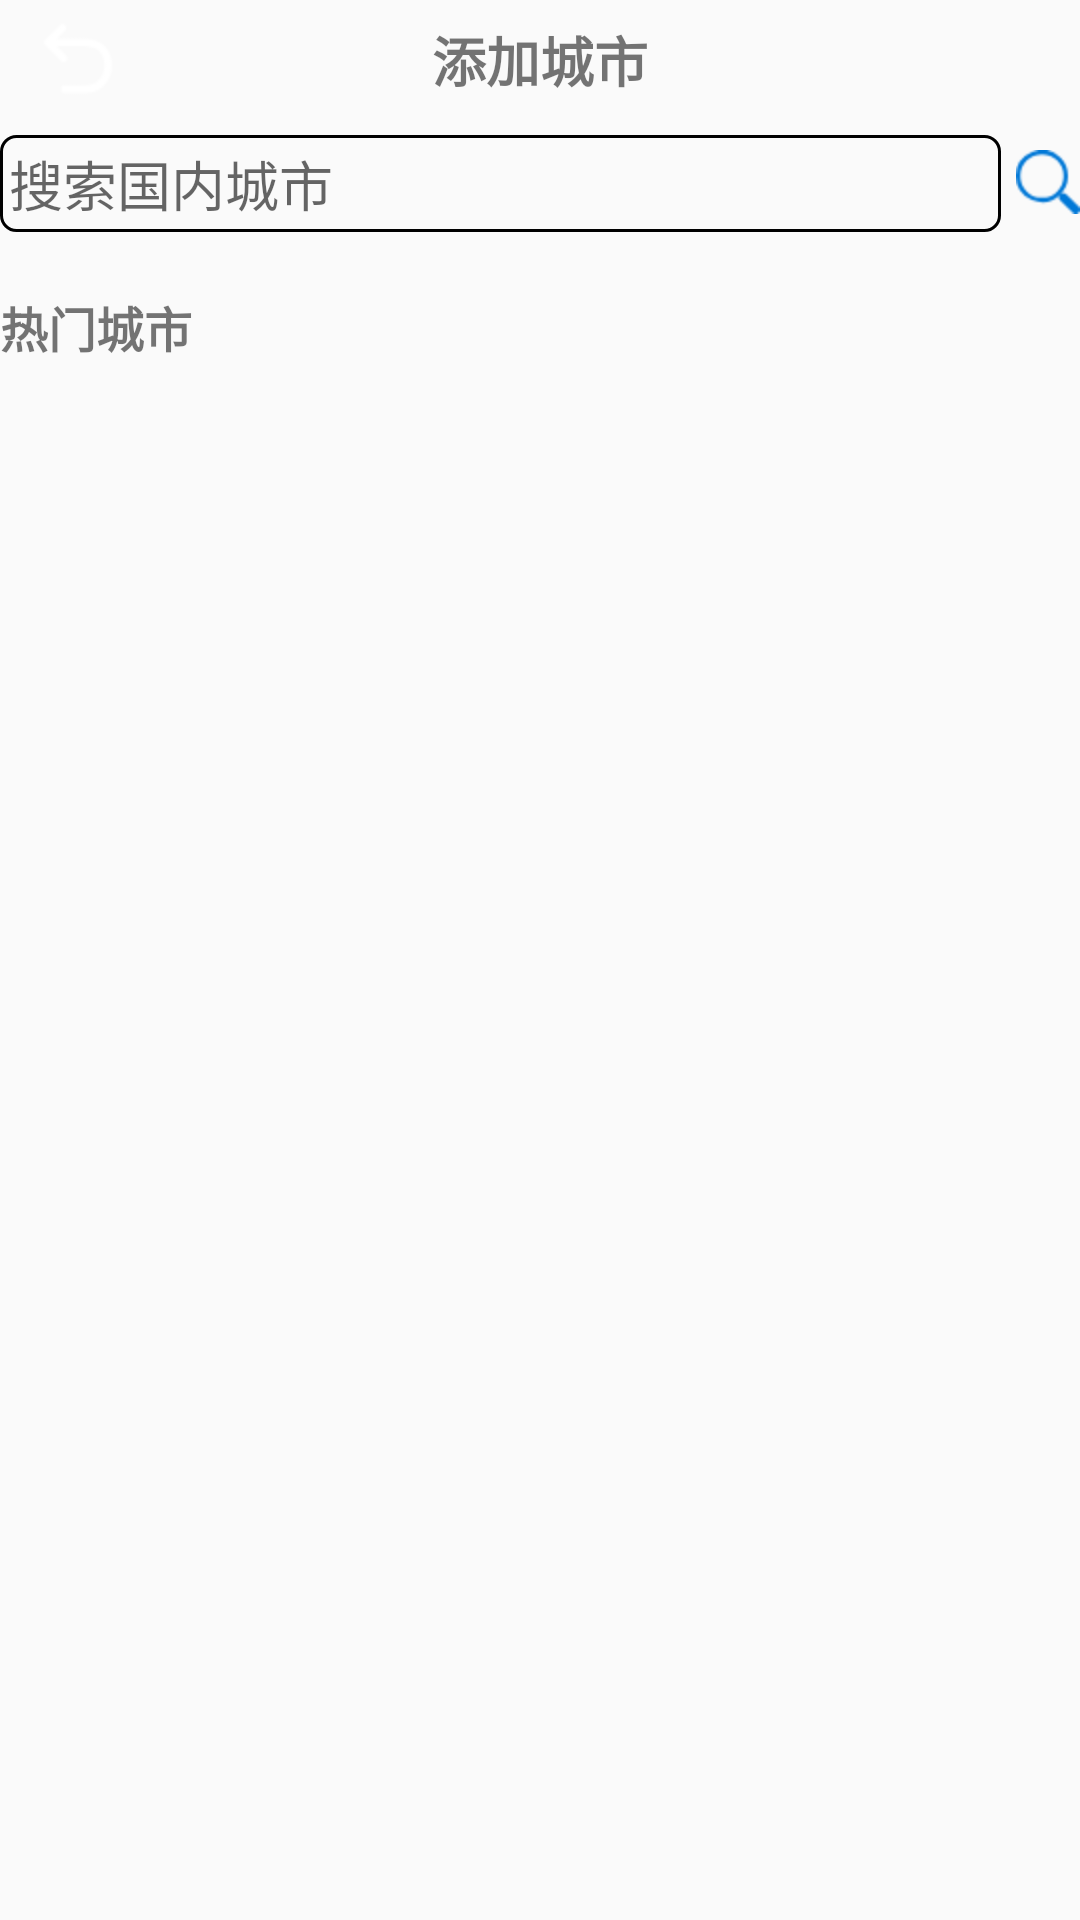

Where to tap for icons on this 1080px×1920px app screen, as (x,y):
search iv submit: (1048,182)
